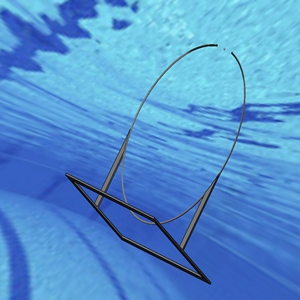circle: (65, 41, 248, 285)
